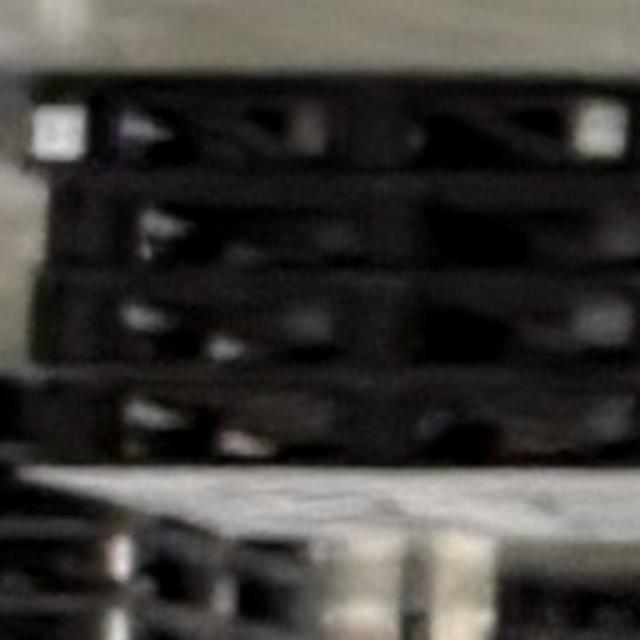igps: (0, 375, 640, 574), (0, 60, 640, 186), (12, 258, 640, 380), (35, 168, 640, 272)
